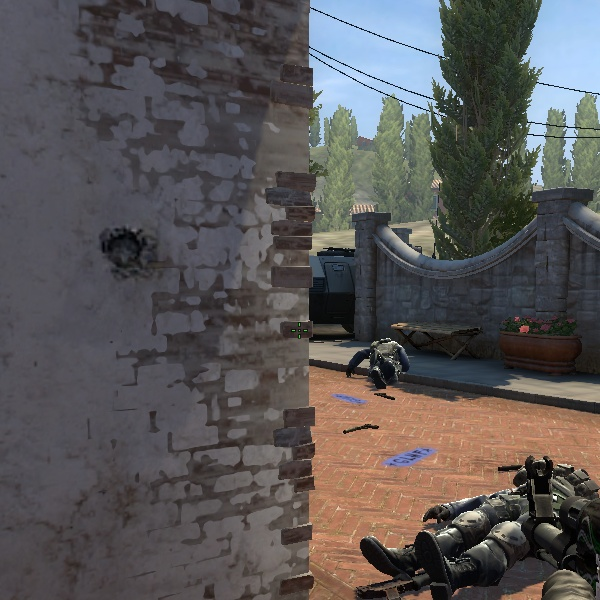ct_body: (503, 450, 599, 596)
